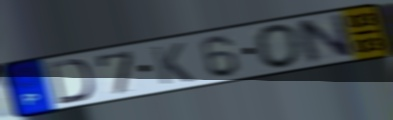6: (199, 33, 242, 80)
7: (94, 48, 136, 96)
D: (47, 57, 96, 106)
K: (149, 41, 197, 87)
N: (293, 11, 357, 66)
O: (253, 22, 305, 71)
